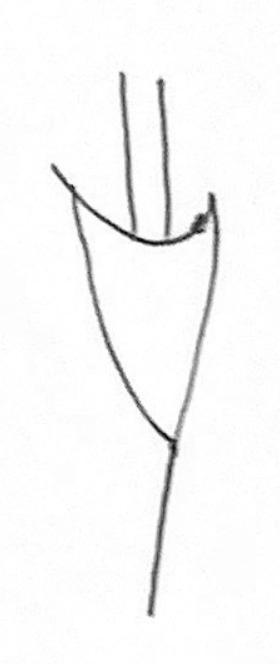OR: (35, 148, 273, 488)
